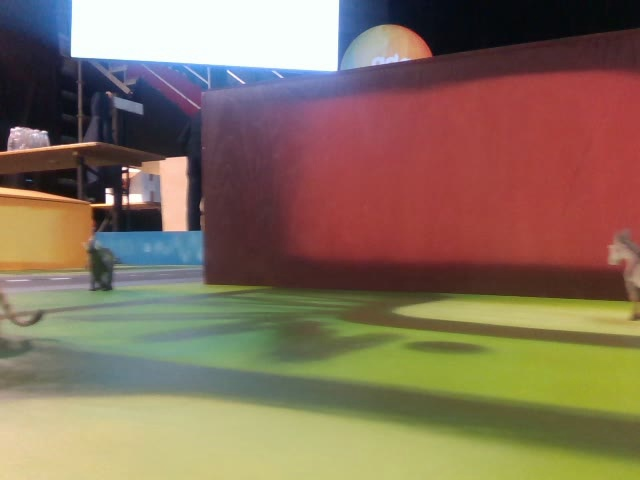toy: (81, 237, 115, 292)
